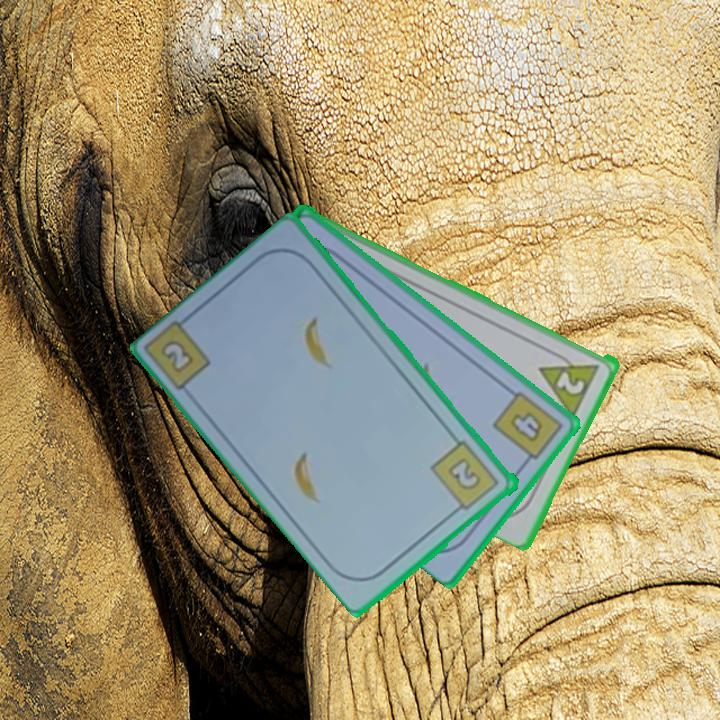2b: (427, 437, 503, 517), (157, 336, 198, 377)
2p: (536, 345, 604, 419)
4b: (489, 387, 566, 469)
